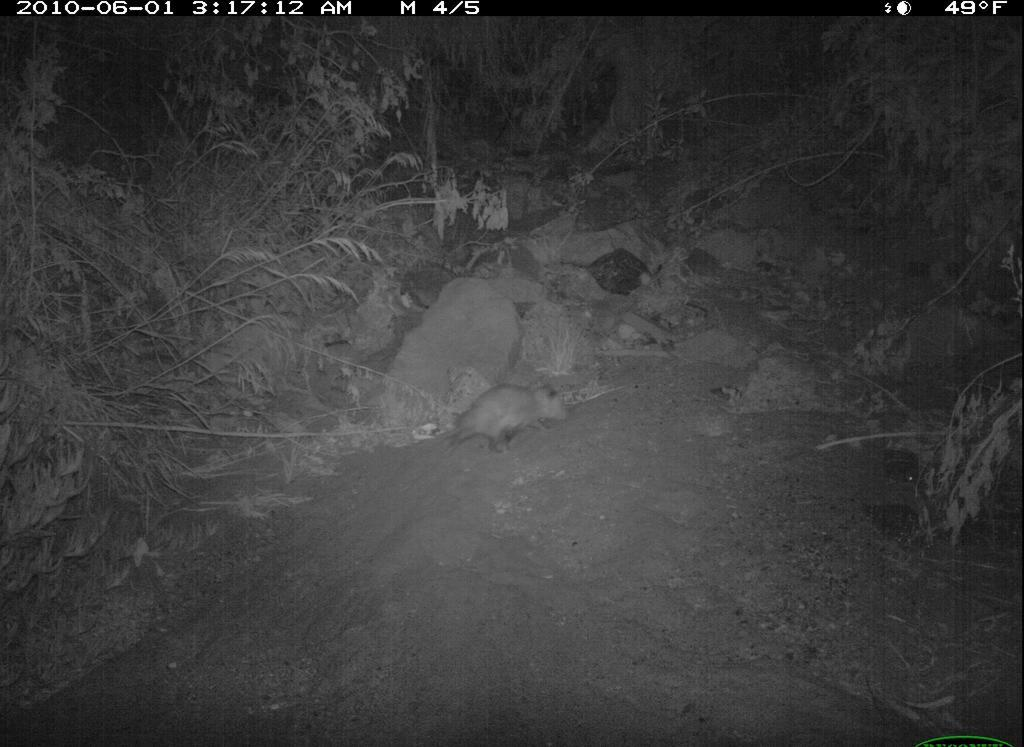opossum: (415, 382, 571, 468)
